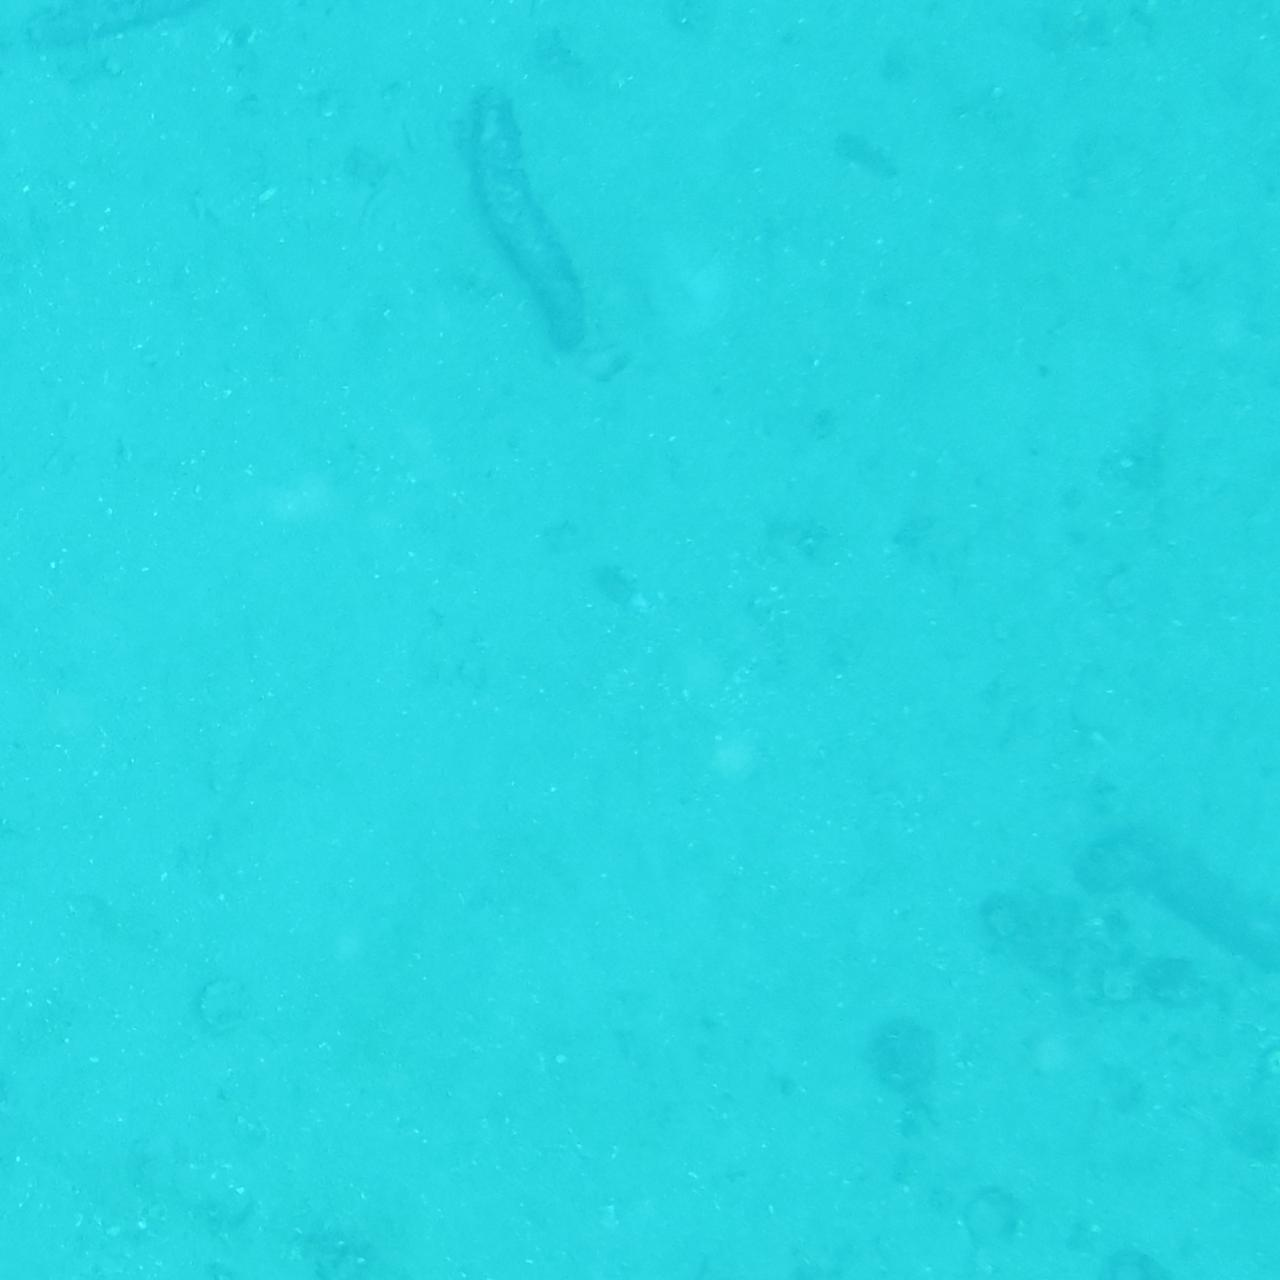Holothuria tubulosa: (463, 75, 595, 367), (1082, 803, 1280, 985), (11, 0, 377, 84), (837, 1214, 1091, 1280), (0, 0, 175, 83)
